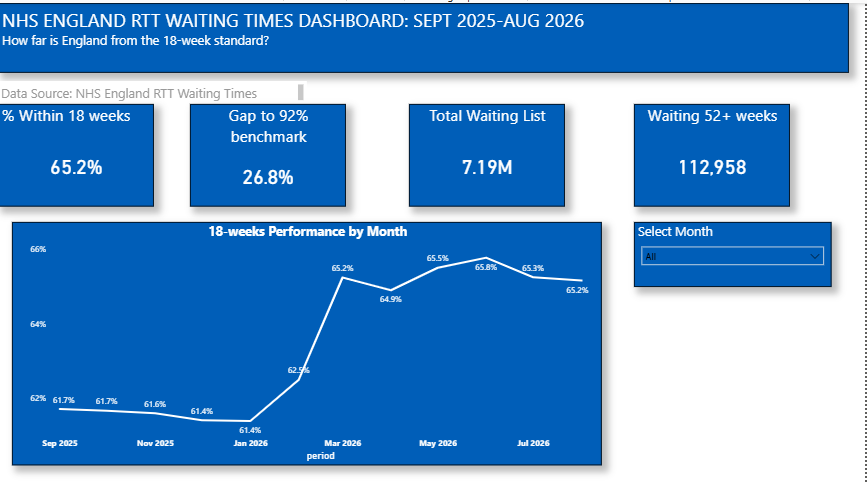

This screenshot's page, from the dashboard's own definition file:
{"tool":"powerbi","page":{"name":"National Performance","canvas":[1280,720],"ordinal":0},"visuals":[{"type":"textbox","box":[11.8,0,1244.7,102.5],"z":0},{"type":"textbox","box":[149.5,297.3,181.4,97.4],"z":1000},{"type":"textbox","box":[11.8,114.2,451.9,33.6],"z":2000},{"type":"card","title":"% Within 18 weeks","fields":{"Values":["rtt_powerbi.% Under 18wks"]},"box":[11.8,147.8,228.5,149.5],"z":3000},{"type":"card","title":"Gap to 92% benchmark","fields":{"Values":["rtt_powerbi.Gap to 92%"]},"box":[292.3,147.8,228.5,149.5],"z":4000},{"type":"card","title":"Total Waiting List","fields":{"Values":["rtt_powerbi.Total Waiting"]},"box":[613.1,147.8,228.5,149.5],"z":5000},{"type":"card","title":"Waiting 52+ weeks","fields":{"Values":["rtt_powerbi.Waiting 52 Latest"]},"box":[942.4,147.8,228.5,149.5],"z":6000},{"type":"slicer","title":"Select Month","fields":{"Values":["rtt_powerbi.period"]},"box":[942,320.4,288.7,95.1],"z":7000},{"type":"lineChart","title":"18-weeks Performance by Month","fields":{"Y":["rtt_powerbi.% Under 18wks"],"Category":["rtt_powerbi.period"]},"box":[31.9,320.8,863.4,356.1],"z":8000}]}

Visuals, with their boxes in screenshot pixels (x1, y1, x2, y2), scaled from the page's 1280x720 canvas onto the 867x483 screenshot:
textbox: 8 0 851 69
textbox: 101 199 224 265
textbox: 8 77 314 99
"% Within 18 weeks" card: 8 99 163 199
"Gap to 92% benchmark" card: 198 99 353 199
"Total Waiting List" card: 415 99 570 199
"Waiting 52+ weeks" card: 638 99 793 199
"Select Month" slicer: 638 215 834 279
"18-weeks Performance by Month" lineChart: 22 215 606 454
